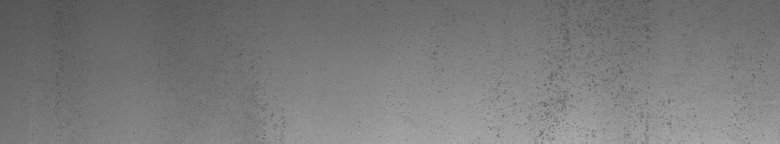ib: (524, 7, 674, 136)
